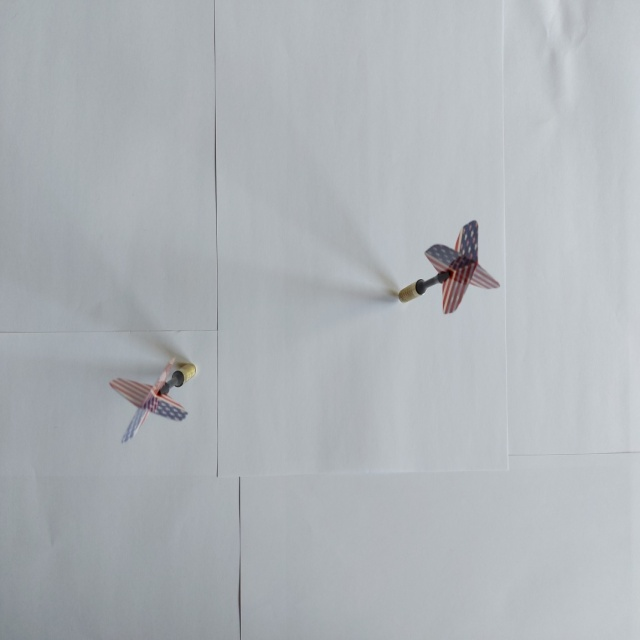Dart: (392, 217, 503, 320), (102, 344, 201, 444)
